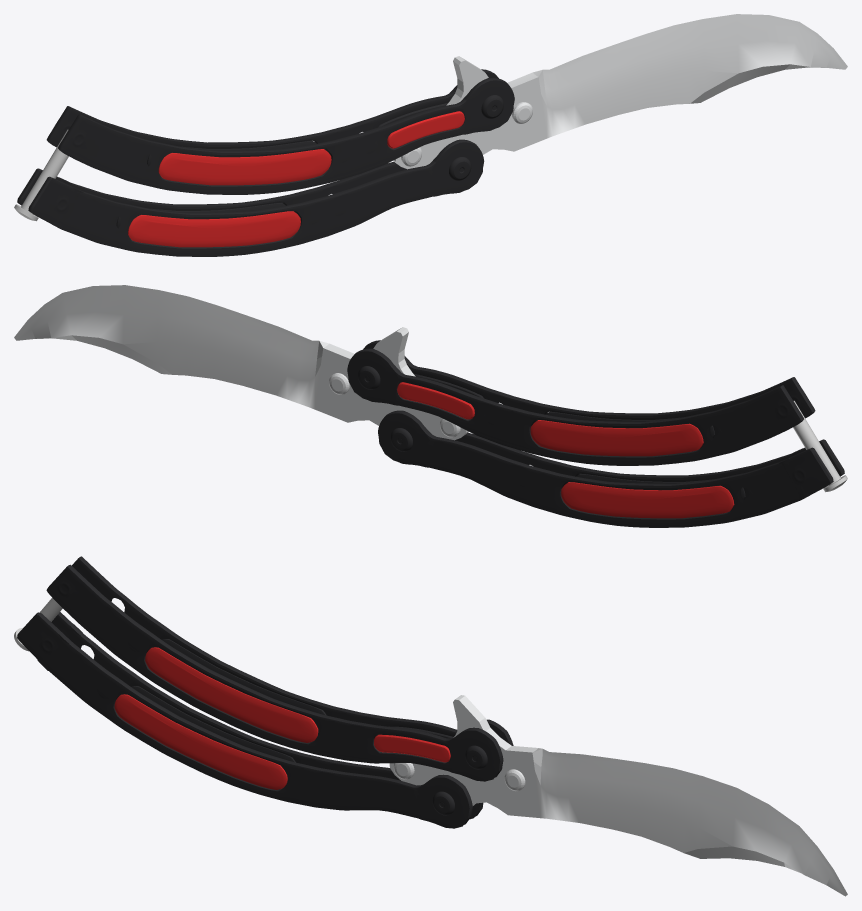
The model's file is butterfly_knife.glb.
3 renders of one model, top to bottom at view 1: azimuth 30°, elevation 25°; view 2: azimuth 150°, elevation 25°; view 3: azimuth 330°, elevation 25°, orthographic.
Visible parts, largest first — view 1: BF_Cube, BF_Cube_004, BF_Cube_001, BF_Cylinder; view 2: BF_Cube, BF_Cube_004, BF_Cube_001, BF_Cylinder; view 3: BF_Cube, BF_Cube_004, BF_Cube_001.
Boxes of the visible parts, left/top/right/bottom form: BF_Cube: left=393, top=14, right=847, bottom=169; BF_Cube_004: left=46, top=69, right=514, bottom=194; BF_Cube_001: left=17, top=139, right=484, bottom=256; BF_Cylinder: left=14, top=129, right=68, bottom=221; BF_Cube: left=14, top=285, right=468, bottom=440; BF_Cube_004: left=347, top=340, right=815, bottom=465; BF_Cube_001: left=378, top=410, right=844, bottom=527; BF_Cylinder: left=793, top=400, right=847, bottom=492; BF_Cube: left=389, top=695, right=847, bottom=896; BF_Cube_004: left=46, top=556, right=513, bottom=781; BF_Cube_001: left=17, top=612, right=483, bottom=828.
Bounding box in the file's own units: 4.78 × 1 × 0.2007.
